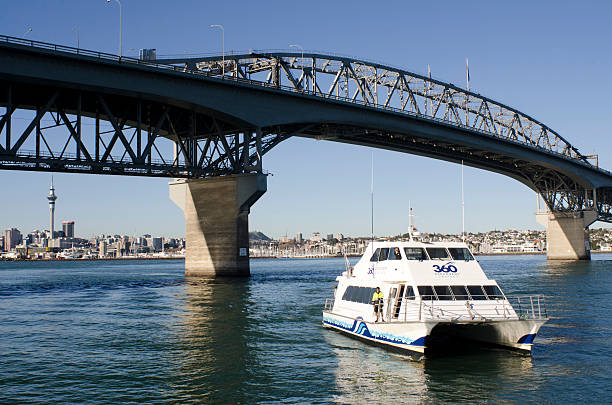ferry: (322, 241, 550, 357)
